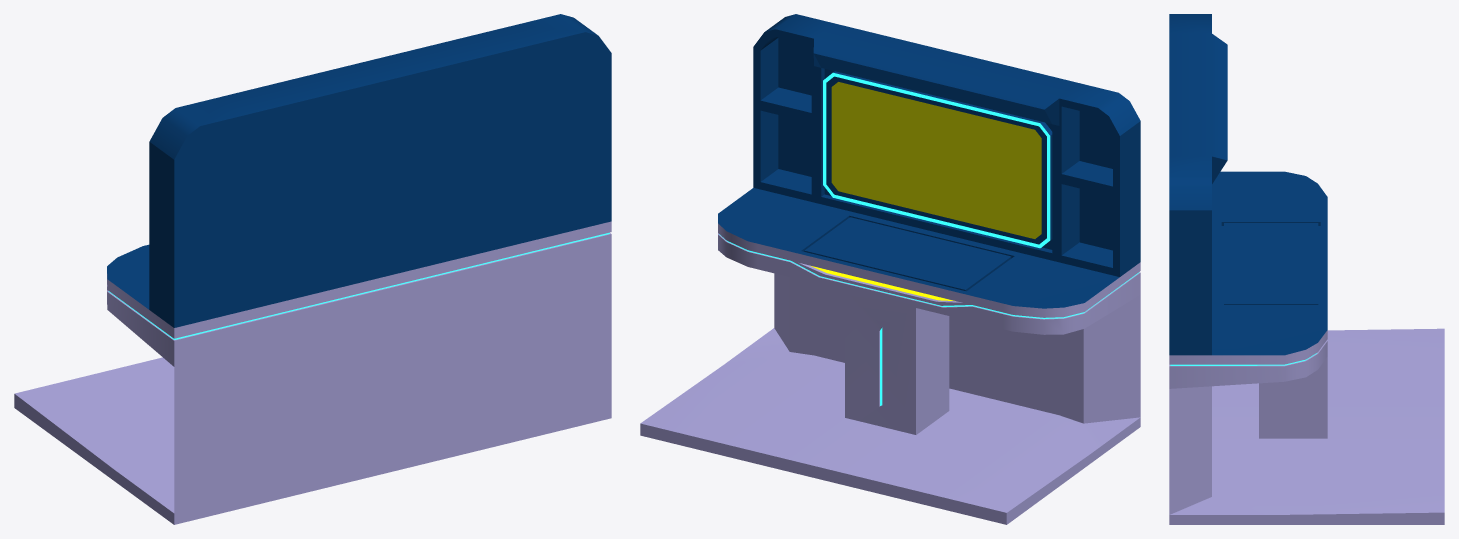
File: CapstoneSpaceshipINSIDE_bench.fbx
3 renders of one model, left to right at view 1: azimuth 30°, elevation 25°; view 2: azimuth 150°, elevation 25°; view 3: azimuth 270°, elevation 25°, orthographic. The views are drawn at different scales.
Parts seen in each view (by area): view 1: benchUnder, benchTop; view 2: benchUnder, benchTop, benchTop.001; view 3: benchUnder, benchTop.
Part boxes in pixels (x1,y1,x2,y2): benchUnder: [14, 221, 611, 524]; benchTop: [107, 14, 611, 327]; benchUnder: [640, 72, 1140, 524]; benchTop: [718, 14, 1140, 308]; benchTop.001: [831, 82, 1041, 238]; benchUnder: [1169, 328, 1444, 524]; benchTop: [1169, 14, 1327, 355].
Bounding box in the file's own units: 231 × 198 × 146.
